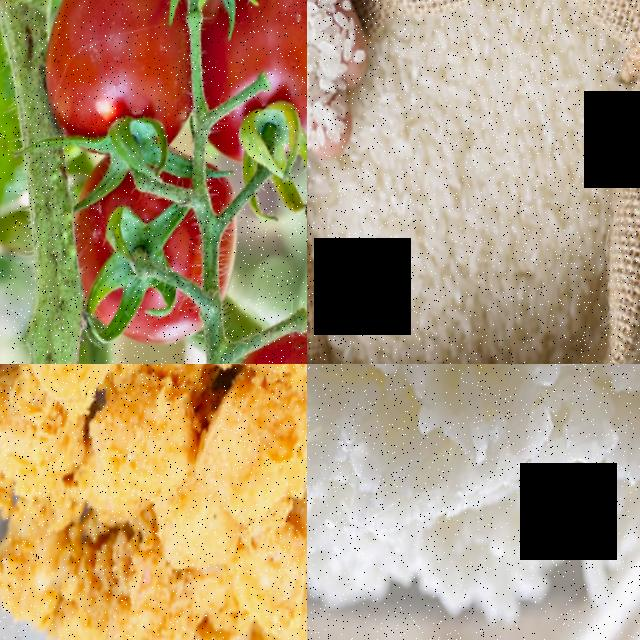tomato: (28, 0, 205, 180)
white rice: (326, 10, 610, 364), (307, 364, 640, 629)
